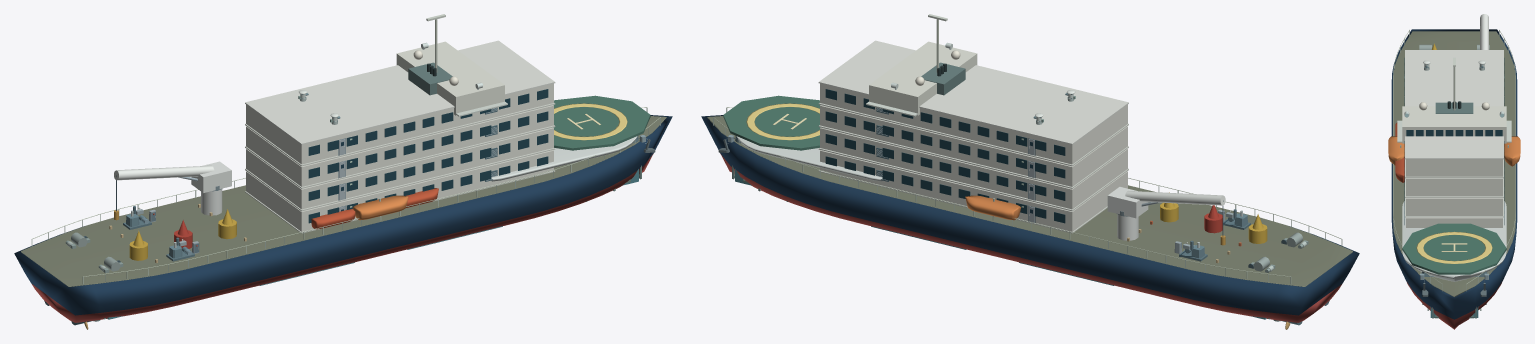
Rendered from nlv-pharos.lod0.glb.
3 renders of one model, left to right at view 1: azimuth 30°, elevation 25°; view 2: azimuth 150°, elevation 25°; view 3: azimuth 270°, elevation 25°, orthographic. The views are drawn at different scales.
Parts seen in each view (by area): view 1: nlv-pharos.structure.hull.outer-hull-shell.1, nlv-pharos.structure.decks.main-strength-deck.1, nlv-pharos.accommodation.superstructure.superstructure-weath, nlv-pharos.accommodation.superstructure.deck-3-enclosure.1, nlv-pharos.accommodation.superstructure.deck-2-enclosure.1, nlv-pharos.accommodation.superstructure.deck-4-enclosure.1, nlv-pharos.accommodation.superstructure.deck-1-enclosure.1, nlv-pharos.cargo.aviation.helicopter-landing-deck.1, nlv-pharos.structure.hull.antifouling-underwater-shell.1, nlv-pharos.navigation.bridge.wheelhouse.1, nlv-pharos.structure.decks.forecastle-platform.1, nlv-pharos.cargo.buoy-handling-crane.buoy-handling-crane-art (+9 smaller); view 2: nlv-pharos.structure.hull.outer-hull-shell.1, nlv-pharos.structure.decks.main-strength-deck.1, nlv-pharos.accommodation.superstructure.superstructure-weath, nlv-pharos.accommodation.superstructure.deck-3-enclosure.1, nlv-pharos.accommodation.superstructure.deck-2-enclosure.1, nlv-pharos.accommodation.superstructure.deck-4-enclosure.1, nlv-pharos.accommodation.superstructure.deck-1-enclosure.1, nlv-pharos.cargo.aviation.helicopter-landing-deck.1, nlv-pharos.structure.hull.antifouling-underwater-shell.1, nlv-pharos.navigation.bridge.wheelhouse.1, nlv-pharos.structure.decks.forecastle-platform.1, nlv-pharos.cargo.buoy-handling-crane.buoy-handling-crane-art (+9 smaller); view 3: nlv-pharos.accommodation.superstructure.superstructure-weath, nlv-pharos.structure.decks.main-strength-deck.1, nlv-pharos.cargo.aviation.helicopter-landing-deck.1, nlv-pharos.structure.hull.outer-hull-shell.1, nlv-pharos.navigation.bridge.wheelhouse.1, nlv-pharos.accommodation.superstructure.deck-2-enclosure.1, nlv-pharos.accommodation.superstructure.deck-3-enclosure.1, nlv-pharos.accommodation.superstructure.deck-4-enclosure.1, nlv-pharos.structure.decks.forecastle-platform.1, nlv-pharos.accommodation.superstructure.deck-1-enclosure.1, nlv-pharos.cargo.aviation.flight-deck-landing-circle.1, nlv-pharos.structure.hull.antifouling-underwater-shell.1 (+11 smaller).
Part boxes in pixels (x1,y1,x2,y2): nlv-pharos.structure.hull.outer-hull-shell.1: [14, 115, 672, 315]; nlv-pharos.structure.decks.main-strength-deck.1: [21, 116, 666, 286]; nlv-pharos.accommodation.superstructure.superstructure-weath: [245, 40, 555, 144]; nlv-pharos.accommodation.superstructure.deck-3-enclosure.1: [246, 105, 553, 186]; nlv-pharos.accommodation.superstructure.deck-2-enclosure.1: [246, 127, 553, 209]; nlv-pharos.accommodation.superstructure.deck-4-enclosure.1: [246, 83, 553, 164]; nlv-pharos.accommodation.superstructure.deck-1-enclosure.1: [246, 150, 553, 231]; nlv-pharos.cargo.aviation.helicopter-landing-deck.1: [553, 95, 650, 150]; nlv-pharos.structure.hull.antifouling-underwater-shell.1: [32, 153, 653, 322]; nlv-pharos.navigation.bridge.wheelhouse.1: [396, 41, 504, 115]; nlv-pharos.structure.decks.forecastle-platform.1: [491, 136, 637, 181]; nlv-pharos.cargo.buoy-handling-crane.buoy-handling-crane-art: [114, 165, 214, 180]; nlv-pharos.structure.hull.outer-hull-shell.1: [701, 115, 1359, 315]; nlv-pharos.structure.decks.main-strength-deck.1: [707, 116, 1352, 286]; nlv-pharos.accommodation.superstructure.superstructure-weath: [818, 40, 1128, 144]; nlv-pharos.accommodation.superstructure.deck-3-enclosure.1: [820, 105, 1127, 186]; nlv-pharos.accommodation.superstructure.deck-2-enclosure.1: [820, 127, 1127, 209]; nlv-pharos.accommodation.superstructure.deck-4-enclosure.1: [820, 83, 1127, 164]; nlv-pharos.accommodation.superstructure.deck-1-enclosure.1: [820, 150, 1127, 231]; nlv-pharos.cargo.aviation.helicopter-landing-deck.1: [723, 95, 820, 150]; nlv-pharos.structure.hull.antifouling-underwater-shell.1: [720, 153, 1341, 322]; nlv-pharos.navigation.bridge.wheelhouse.1: [869, 41, 977, 115]; nlv-pharos.structure.decks.forecastle-platform.1: [736, 136, 882, 181]; nlv-pharos.cargo.buoy-handling-crane.buoy-handling-crane-art: [1125, 191, 1225, 205]; nlv-pharos.accommodation.superstructure.superstructure-weath: [1405, 50, 1503, 159]; nlv-pharos.structure.decks.main-strength-deck.1: [1393, 31, 1515, 296]; nlv-pharos.cargo.aviation.helicopter-landing-deck.1: [1402, 223, 1506, 274]; nlv-pharos.structure.hull.outer-hull-shell.1: [1391, 29, 1517, 319]; nlv-pharos.navigation.bridge.wheelhouse.1: [1402, 106, 1506, 143]; nlv-pharos.accommodation.superstructure.deck-2-enclosure.1: [1406, 197, 1502, 215]; nlv-pharos.accommodation.superstructure.deck-3-enclosure.1: [1406, 178, 1502, 196]; nlv-pharos.accommodation.superstructure.deck-4-enclosure.1: [1406, 159, 1502, 176]; nlv-pharos.structure.decks.forecastle-platform.1: [1402, 201, 1506, 281]; nlv-pharos.accommodation.superstructure.deck-1-enclosure.1: [1406, 217, 1502, 227]; nlv-pharos.cargo.aviation.flight-deck-landing-circle.1: [1416, 231, 1492, 263]; nlv-pharos.structure.hull.antifouling-underwater-shell.1: [1407, 282, 1501, 329].
Bounding box in the file's own units: 84.2 × 26.78 × 17.38.
